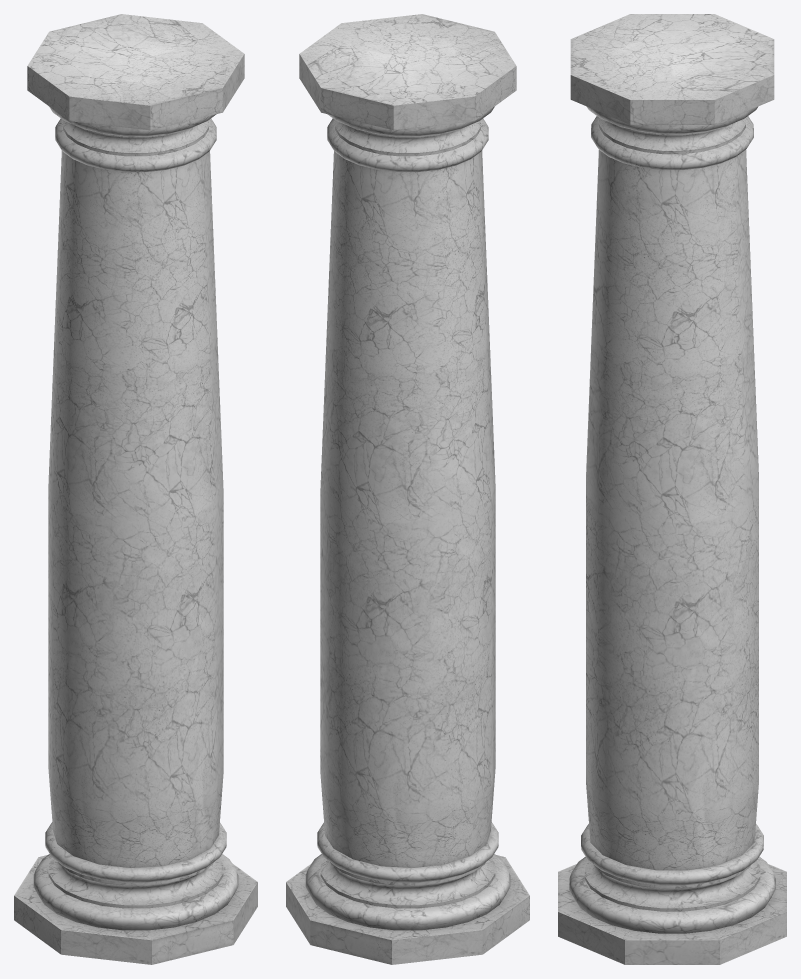
Rendered from stonePillar.fbx.
3 views of the same model, side by side, from view 1: azimuth 30°, elevation 25°; view 2: azimuth 150°, elevation 25°; view 3: azimuth 270°, elevation 25° (orthographic).
Visible parts, largest first — view 1: StonePillar; view 2: StonePillar; view 3: StonePillar.
Boxes of the visible parts, box(x1,y1,x2,y2) form: StonePillar: box(14, 14, 257, 964); StonePillar: box(286, 14, 529, 964); StonePillar: box(558, 14, 786, 964).
Bounding box in the file's own units: 50.2 × 208 × 50.2.
